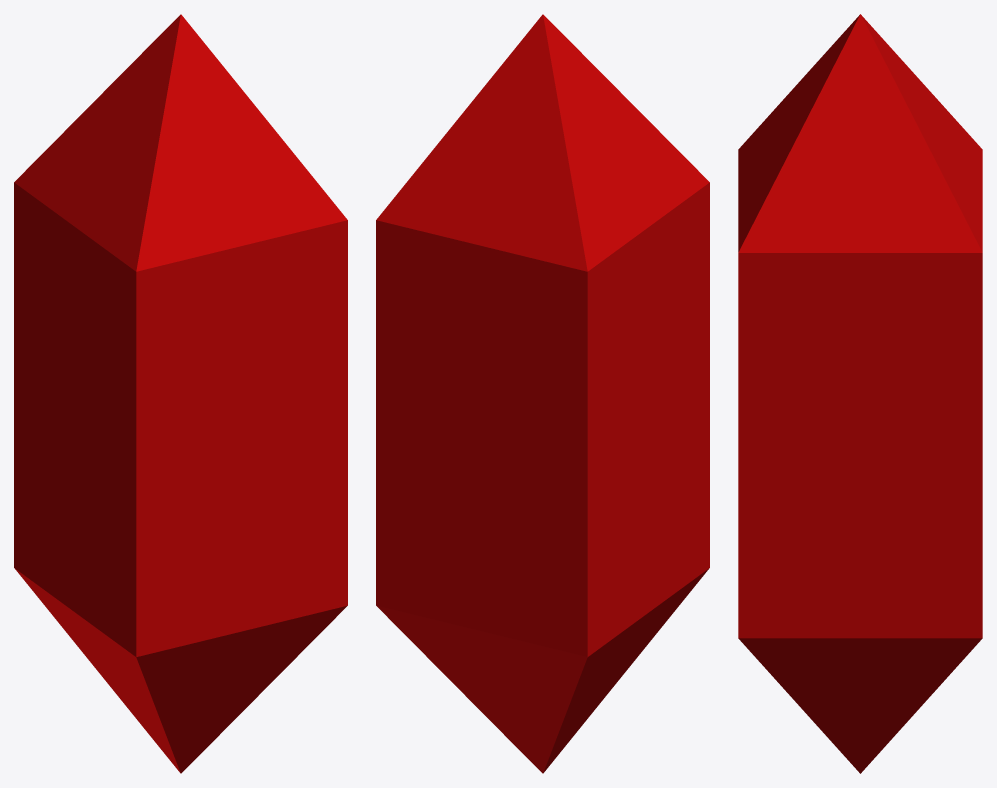
Rendered from treasure5ButtonText.obj.
3 renders of one model, left to right at view 1: azimuth 30°, elevation 25°; view 2: azimuth 150°, elevation 25°; view 3: azimuth 270°, elevation 25°, orthographic.
Visible parts, largest first — view 1: treasure5ButtonText; view 2: treasure5ButtonText; view 3: treasure5ButtonText.
Part boxes in pixels (x1,y1,x2,y2): treasure5ButtonText: (14, 14, 347, 773); treasure5ButtonText: (376, 14, 709, 773); treasure5ButtonText: (738, 14, 982, 773).
Bounding box in the file's own units: 0.2169 × 0.7443 × 0.2169.
